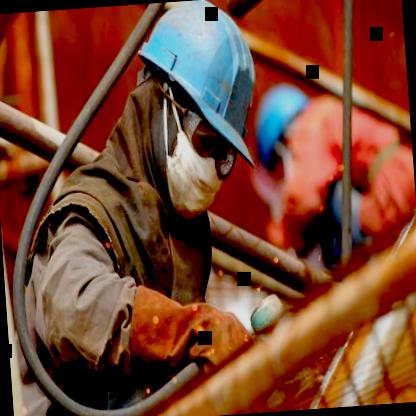helmet: (122, 0, 264, 213), (248, 78, 322, 184)
